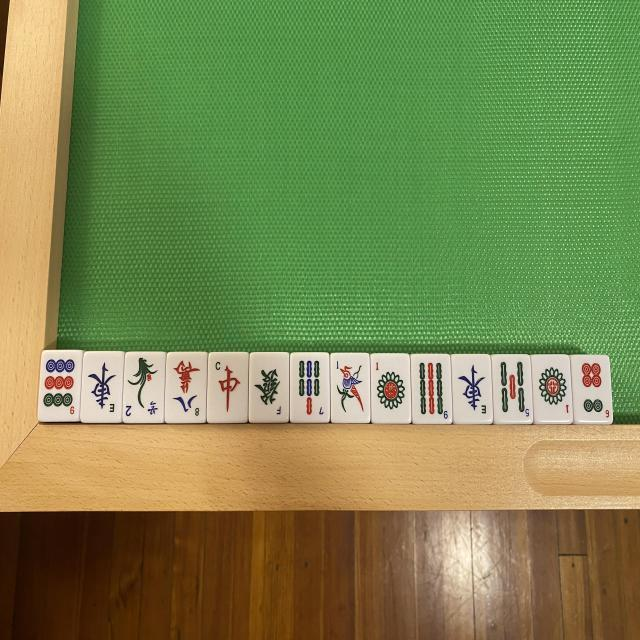bf2: (124, 354, 164, 424)
hdg: (252, 356, 291, 424)
hdr: (208, 352, 248, 421)
hwe: (455, 354, 495, 422), (82, 350, 120, 420)
sb1: (332, 354, 370, 423)
sb5: (492, 356, 530, 420)
sb7: (292, 353, 330, 422)
sb9: (414, 354, 452, 422)
sc8: (166, 354, 206, 424)
sd1: (372, 356, 412, 424), (532, 357, 572, 422)
sd6: (571, 355, 610, 422)
sd9: (40, 350, 82, 420)
